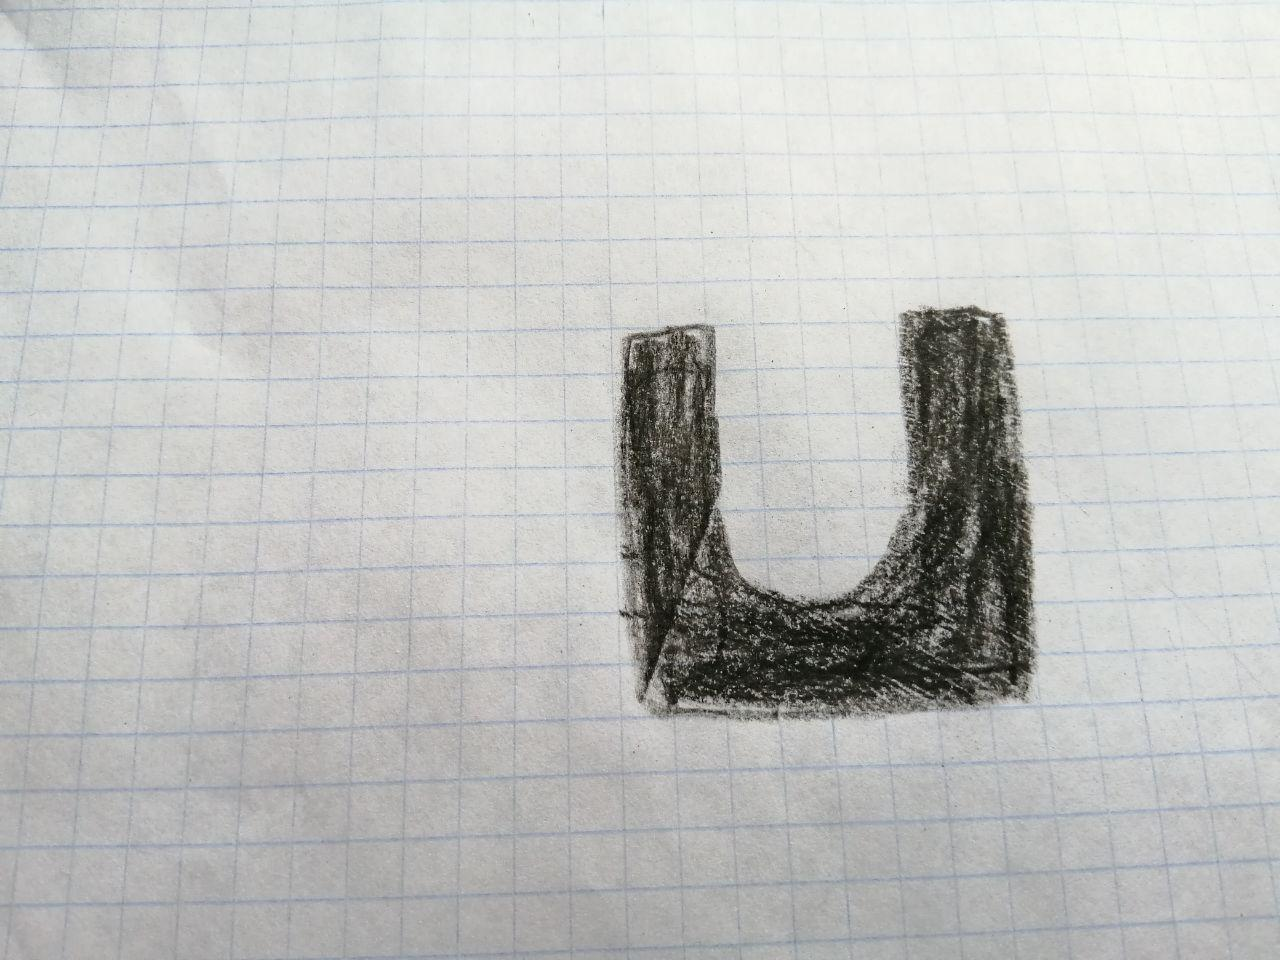u: (608, 294, 1052, 724)
